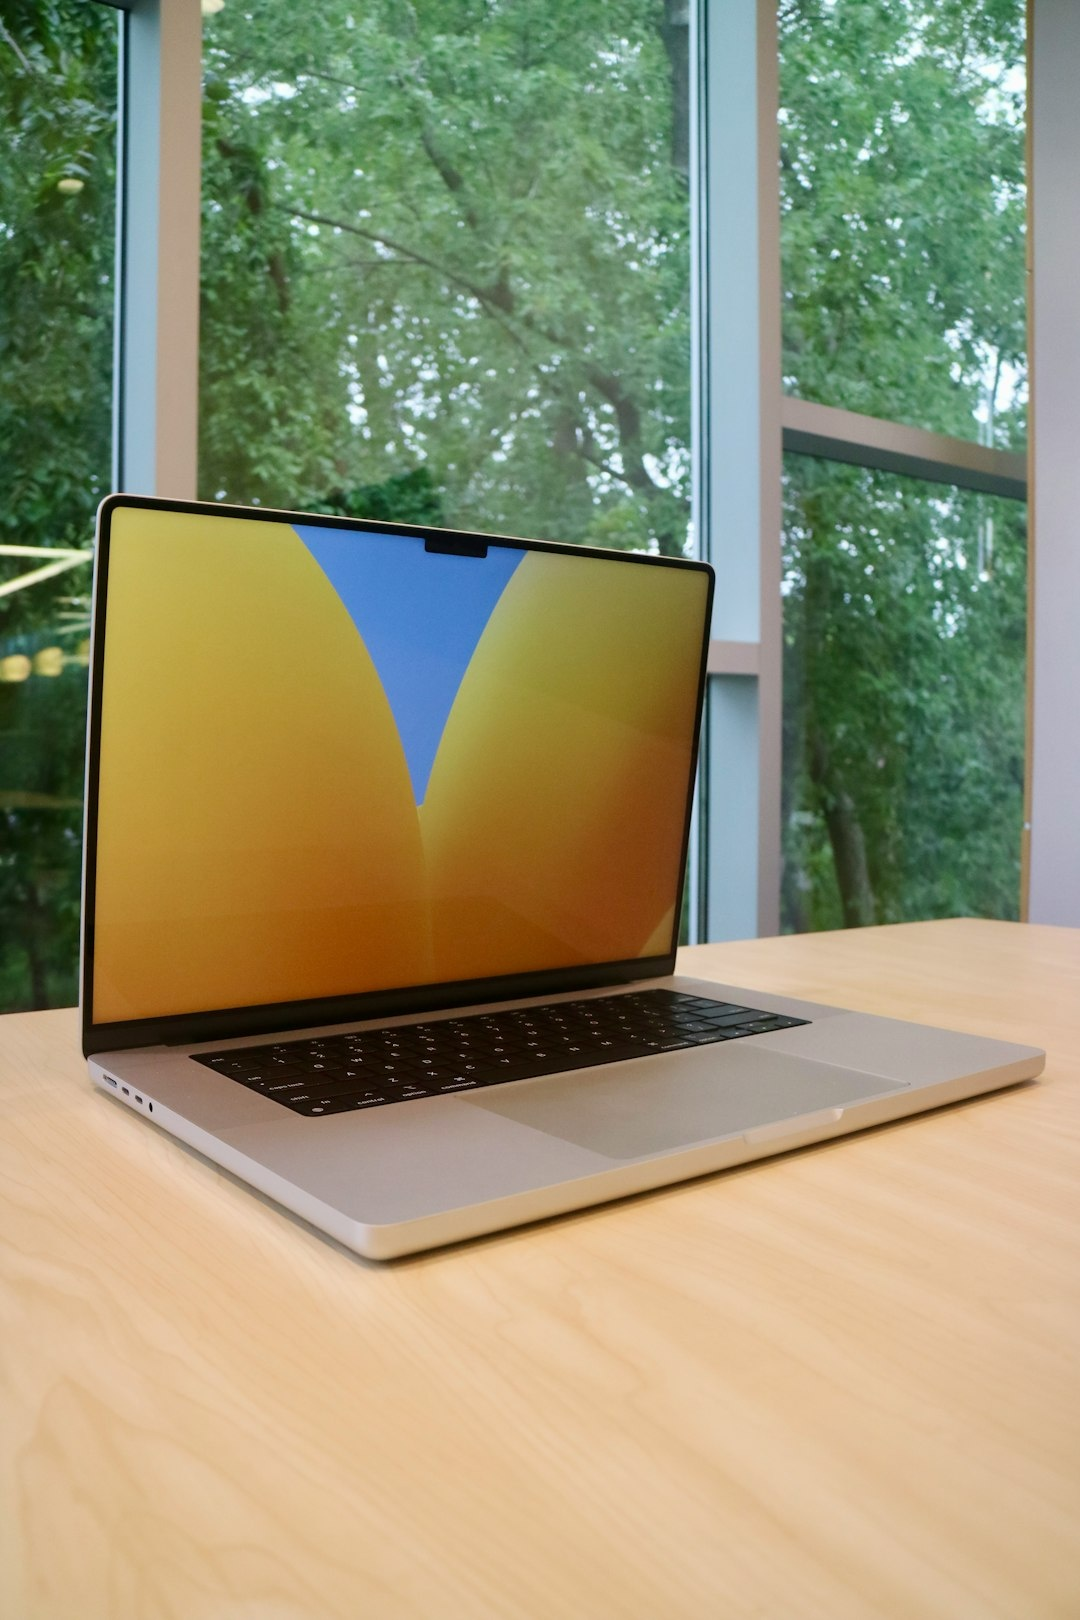laptop: (39, 422, 1080, 1290)
